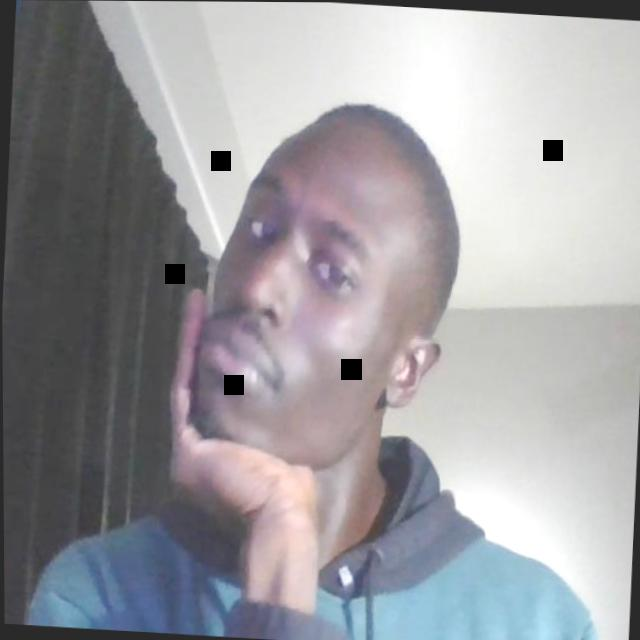NO-Mask: (189, 143, 408, 477)
